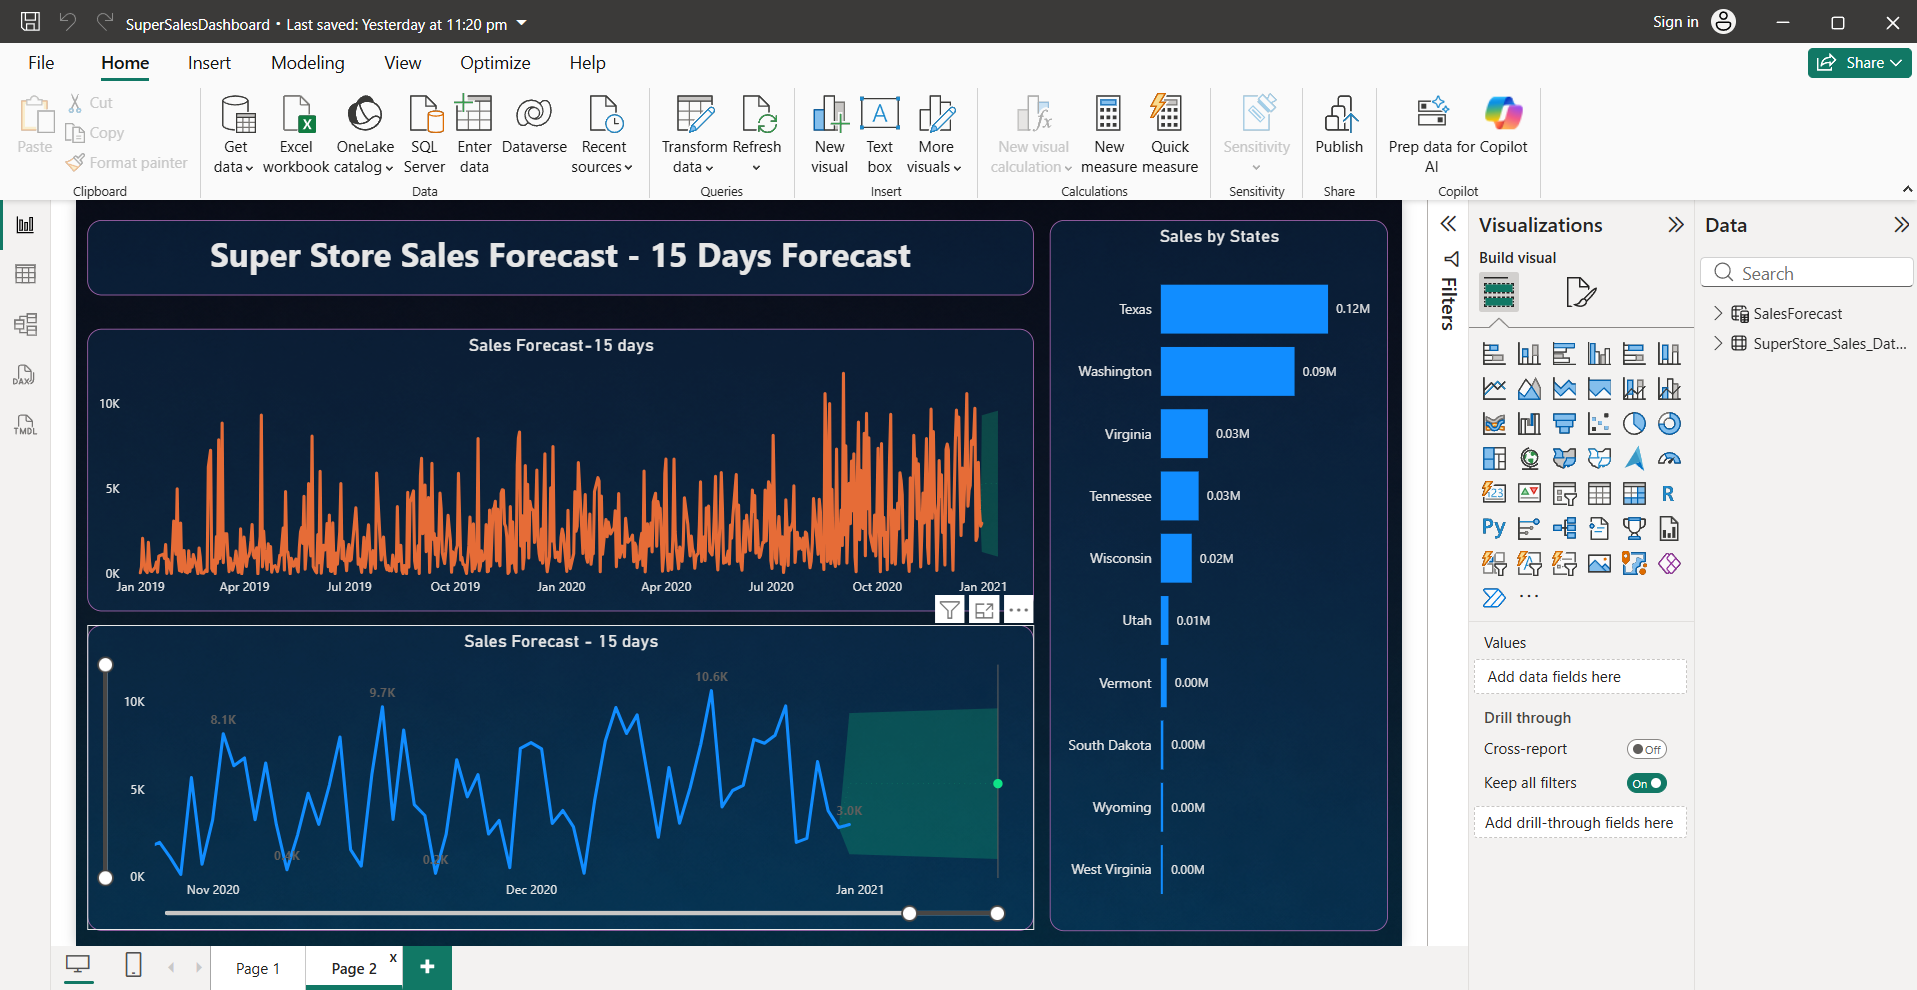

What the dashboard file says about the page in this screenshot:
{"tool":"powerbi","page":{"name":"Page 2","canvas":[1280,720],"ordinal":1},"visuals":[{"type":"lineChart","title":"Sales Forecast-15 days","fields":{"Y":["Sum(SuperStore_Sales_Dataset.Sales)"],"Category":["SuperStore_Sales_Dataset.Order Date"]},"box":[11.2,123.8,913.8,272.5],"z":0},{"type":"lineChart","title":"Sales Forecast - 15 days","fields":{"Y":["Sum(SuperStore_Sales_Dataset.Sales)"],"Category":["SuperStore_Sales_Dataset.Order Date"]},"box":[11.2,410,913.8,295],"z":1000},{"type":"clusteredBarChart","title":" Sales by States","fields":{"Category":["SuperStore_Sales_Dataset.State"],"Y":["Sum(SuperStore_Sales_Dataset.Sales)"]},"box":[940,18.8,326.2,686.2],"z":2000},{"type":"textbox","box":[11.2,18.8,913.8,72.5],"z":3000}]}

Visuals, with their boxes on the page's 1280x720 design canvas (x1, y1, x2, y2). These are canvas units, not pixel positions in the 1917x990 screenshot, which may show the page scaled, cropped or inside an application window:
"Sales Forecast-15 days" lineChart: 11, 124, 925, 396
"Sales Forecast - 15 days" lineChart: 11, 410, 925, 705
" Sales by States" clusteredBarChart: 940, 19, 1266, 705
textbox: 11, 19, 925, 91
